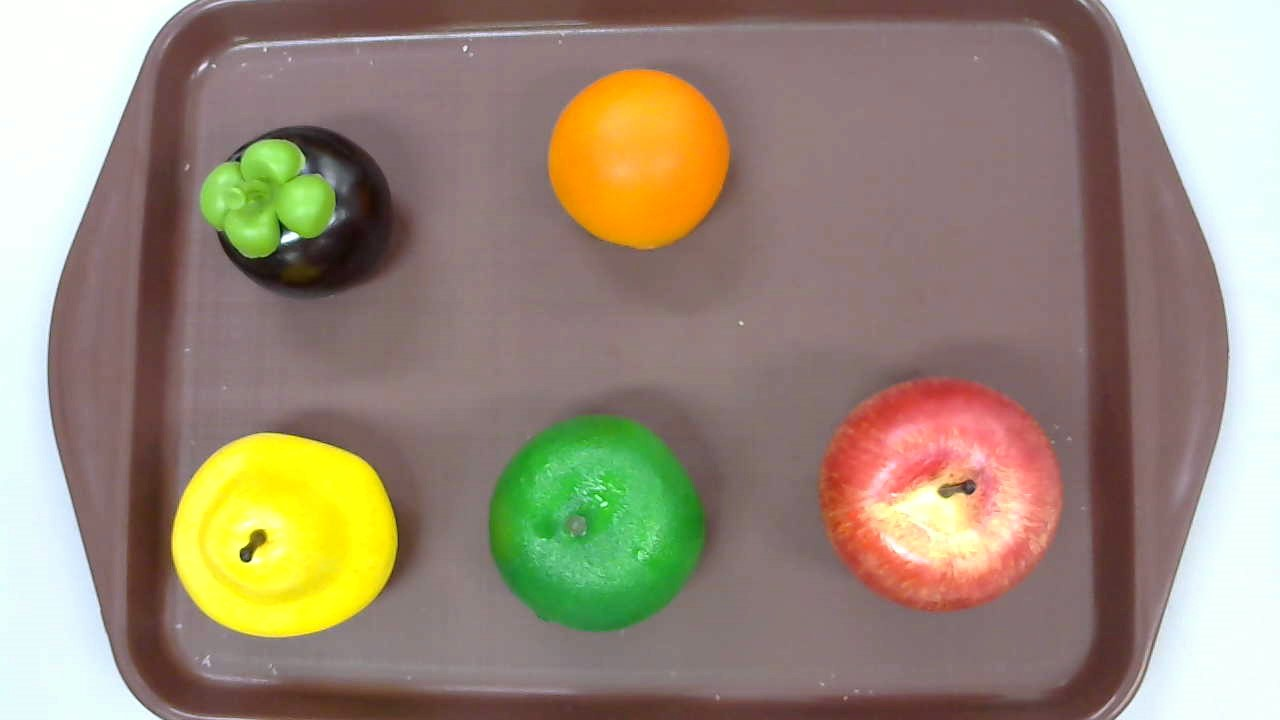bun: (547, 69, 729, 250)
green orange: (489, 412, 704, 633)
mangosteen: (199, 127, 391, 300)
red apple: (818, 374, 1062, 614)
yellow pear: (170, 433, 398, 638)
